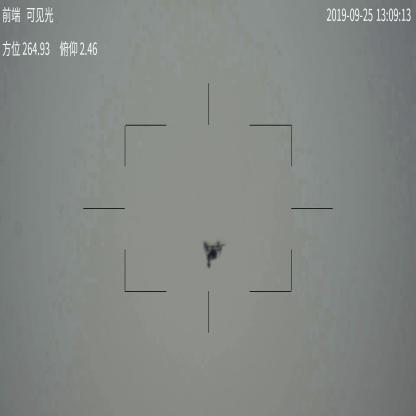uav: (201, 239, 223, 269)
